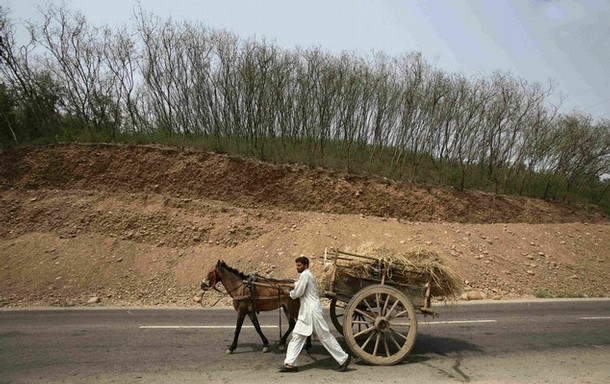horse: (198, 259, 303, 357)
